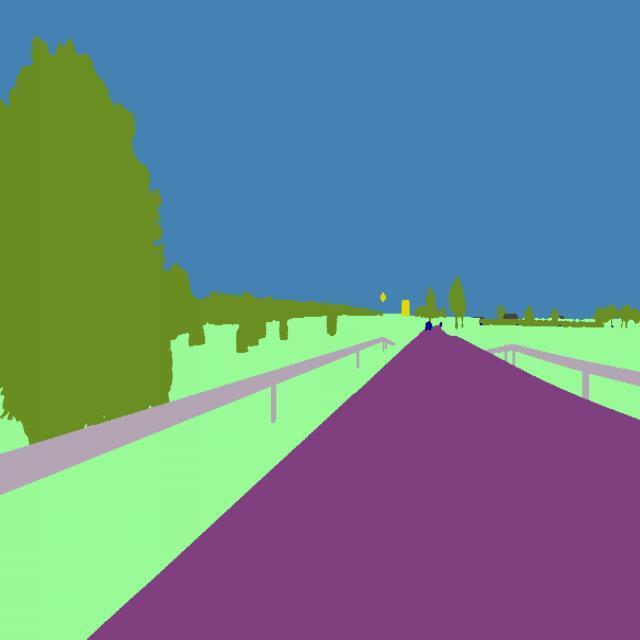safe: (425, 320, 435, 338)
